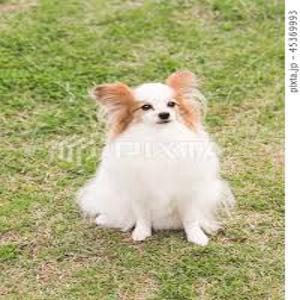yell: (77, 70, 236, 246)
